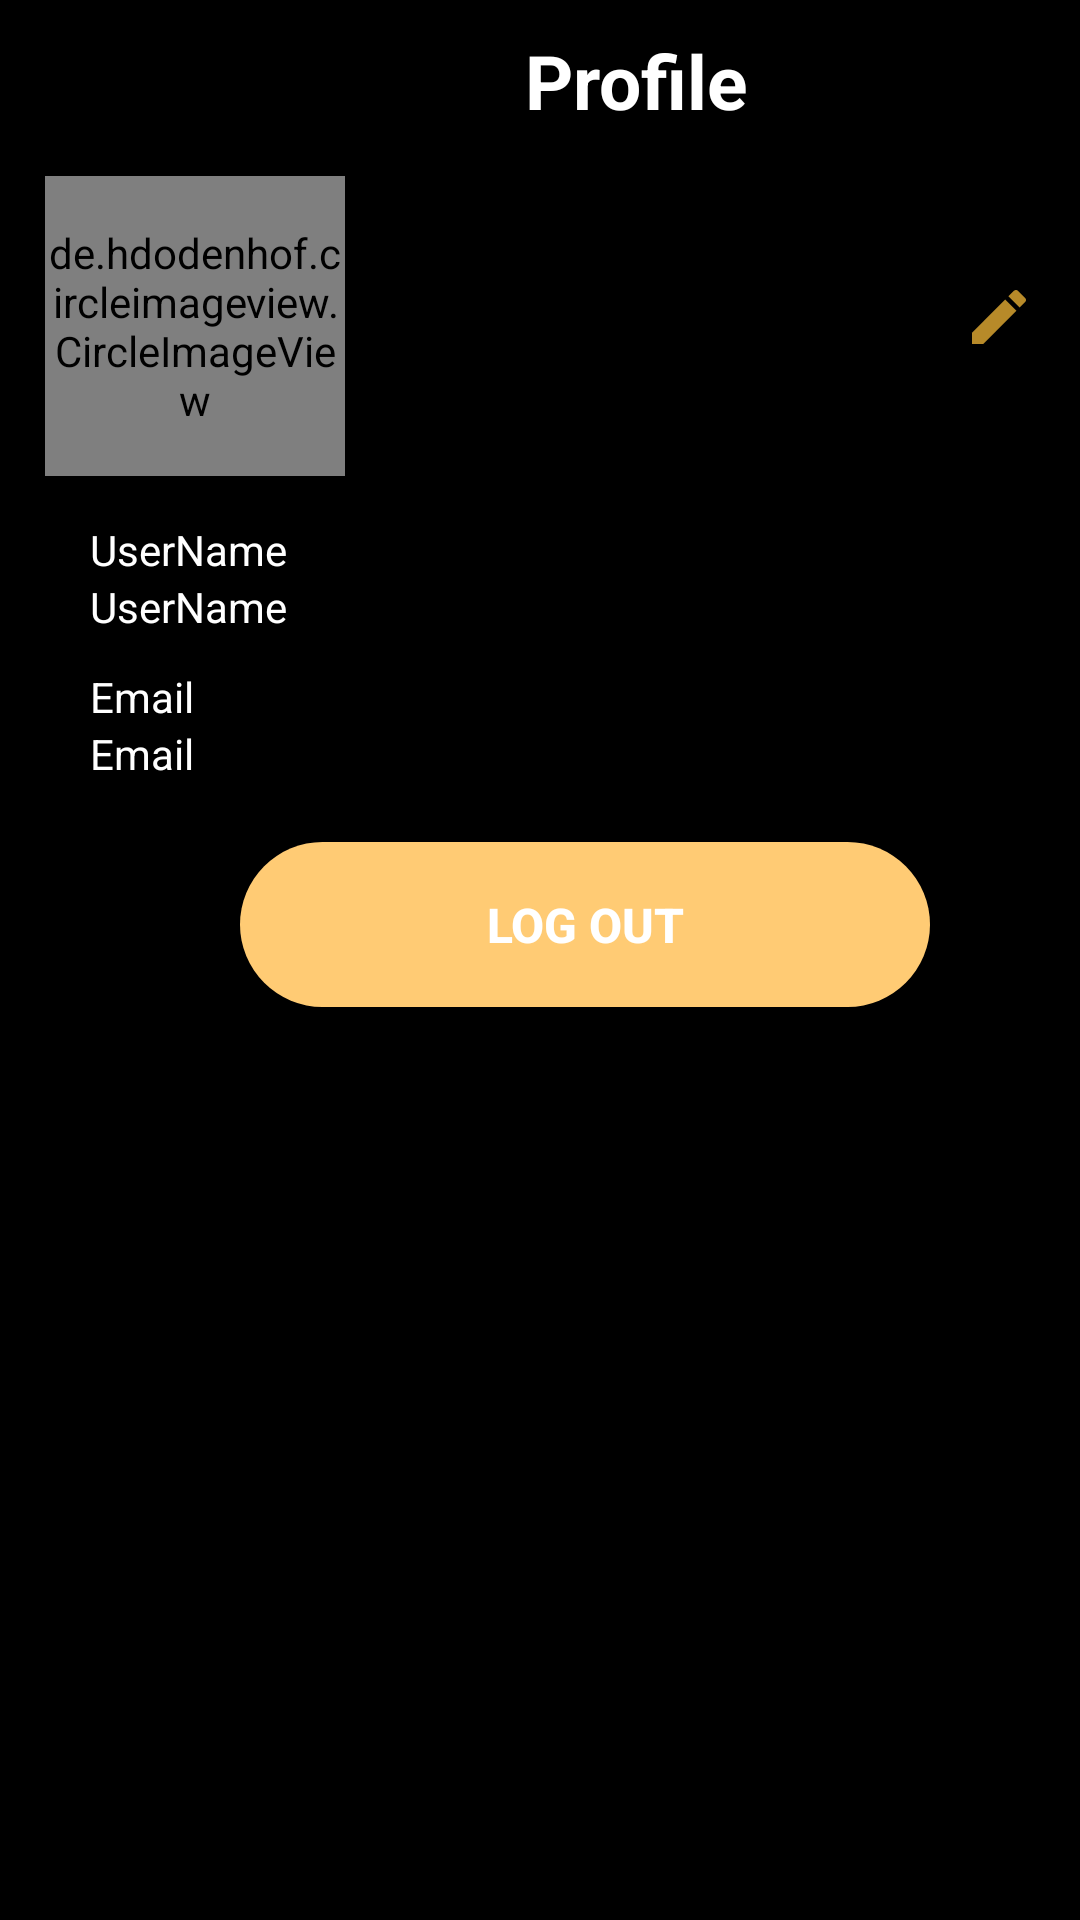

Icons on this 1080*1920 Android screen, each with the point to tap as point (x, y):
edit: point (999, 317)
